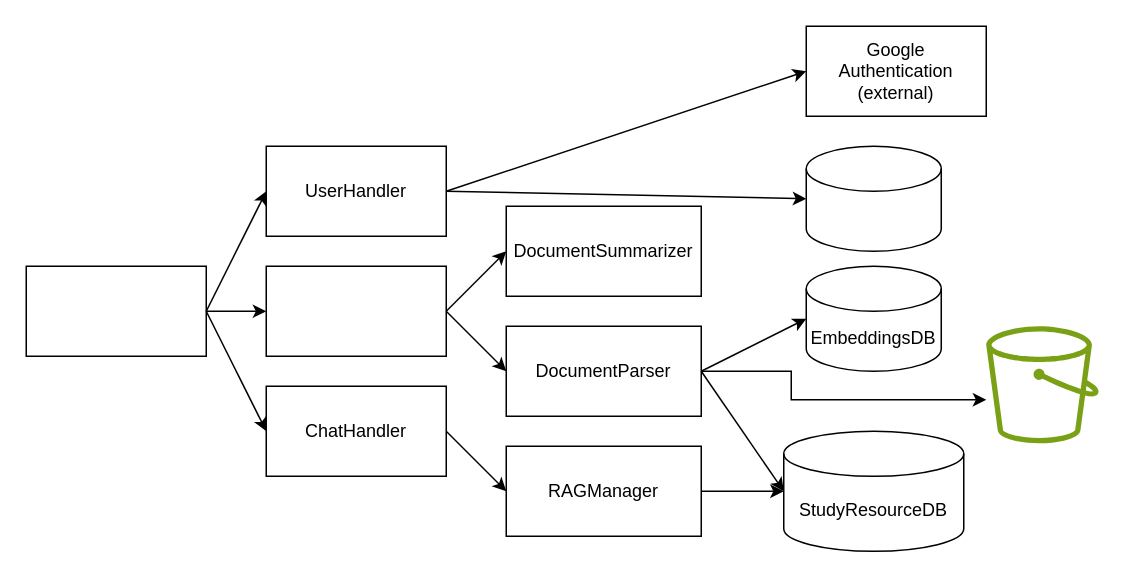
This 1125x578 diagram has some shape labels left out. The centre of each missing label's shape, as x and y in pixels:
"DocumentHandler" belongs at (x=355, y=310).
"DocumentS3" belongs at (x=1042, y=384).
"Frontend" belongs at (x=115, y=310).
"UserDB" belongs at (x=873, y=198).
